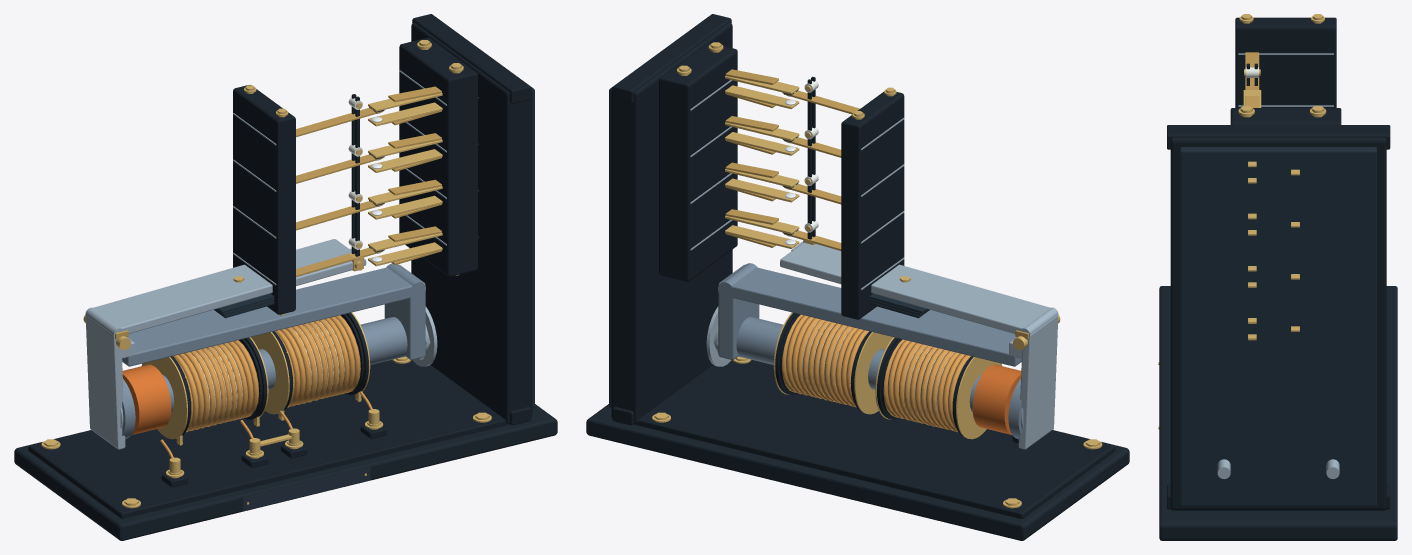
File: JZXC-H62-picked.glb
The picture shows the model from 3 angles, left to right: view 1: azimuth 30°, elevation 25°; view 2: azimuth 150°, elevation 25°; view 3: azimuth 270°, elevation 25°; orthographic projection. The views are drawn at different scales.
Visible parts, largest first — view 1: base (×6), contactBlock (×2), coil (×4), armature (×2), yoke (×2), back (×4), common (×4), copperSleeve, core; view 2: base (×5), contactBlock (×2), coil (×6), armature (×2), yoke (×2), back (×4), copperSleeve, core; view 3: base (×4), contactBlock (×2), common.
Part boxes in pixels (box(x1,y1,x2,y2)): base (×6): box(14, 14, 557, 540); contactBlock (×2): box(233, 38, 477, 314); coil (×4): box(141, 315, 360, 439); armature (×2): box(85, 239, 352, 449); yoke (×2): box(122, 264, 425, 366); back (×4): box(368, 102, 442, 266); common (×4): box(296, 107, 383, 276); copperSleeve: box(122, 364, 171, 434); core: box(162, 317, 407, 411); base (×5): box(586, 14, 1129, 540); contactBlock (×2): box(659, 42, 904, 319); coil (×6): box(782, 314, 1002, 439); armature (×2): box(780, 242, 1058, 449); yoke (×2): box(718, 264, 1021, 366); back (×4): box(725, 85, 799, 248); copperSleeve: box(972, 364, 1021, 434); core: box(736, 317, 981, 411); base (×4): box(1159, 125, 1397, 540); contactBlock (×2): box(1230, 17, 1341, 124); common: box(1245, 52, 1259, 89).
Bounding box in the file's own units: 6.05 × 4.73 × 2.55.
